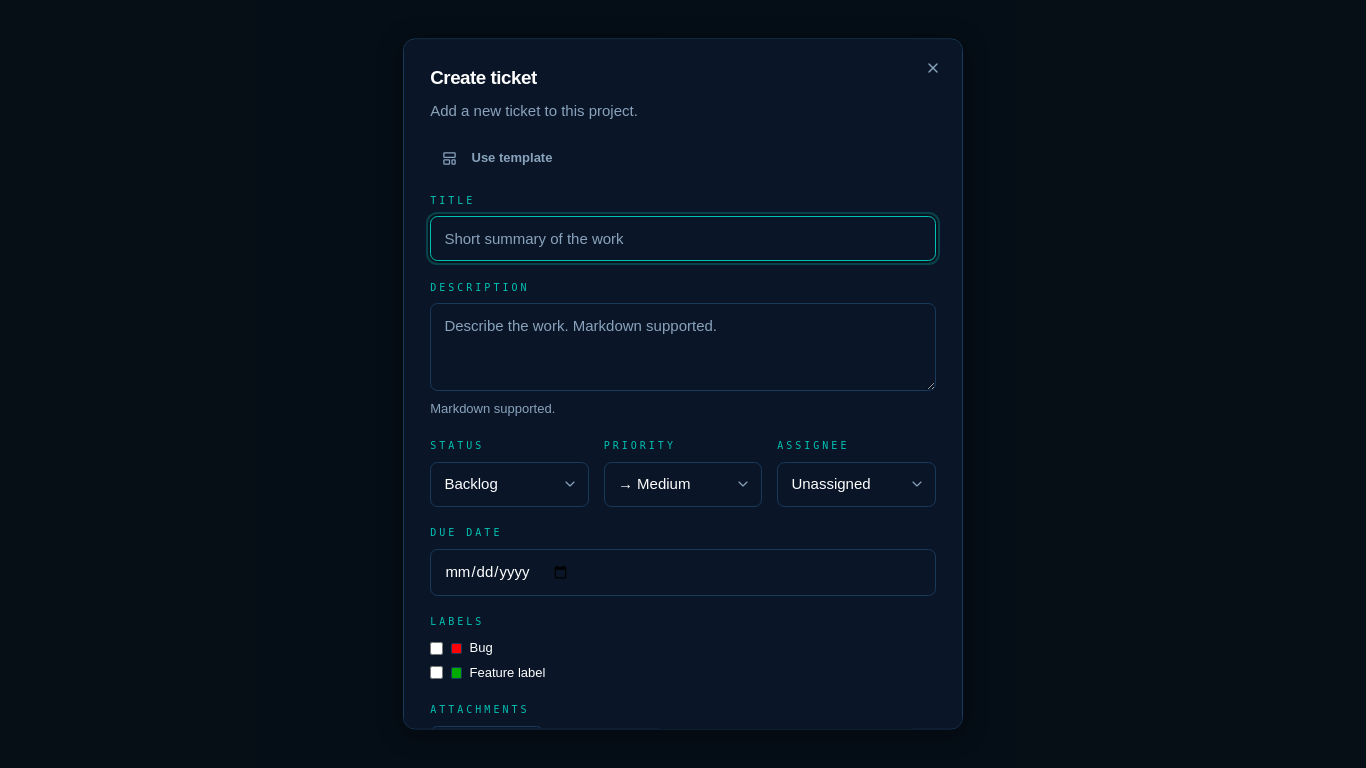
Scenario: CreateTicketDialog — templates and labels › clicking a template row pre-fills title/description/priority and replaces the button with "Clear template"
Click the button "Use template".
click(497, 158)  # box x1=430 y1=142 x2=564 y2=174
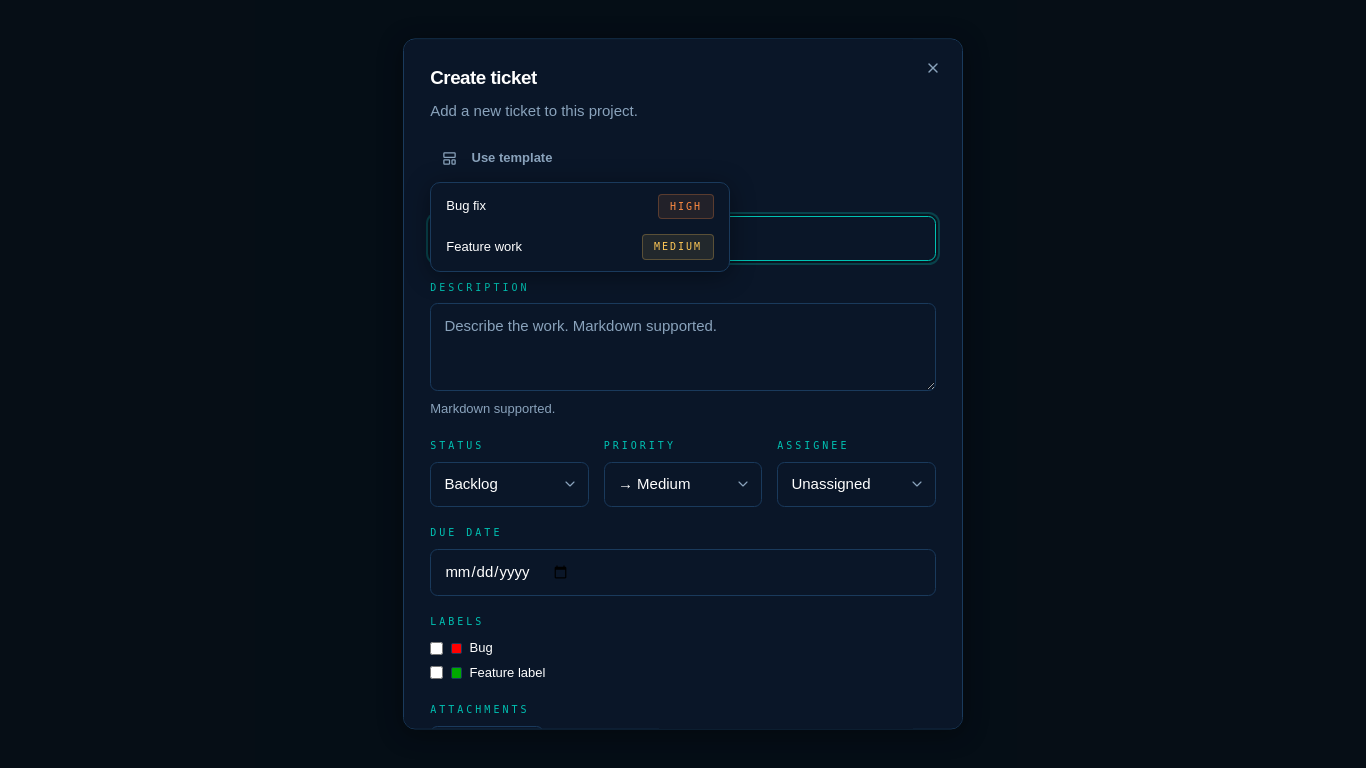
Click the text "Bug fix".
click(466, 207)  # box x1=446 y1=197 x2=486 y2=218
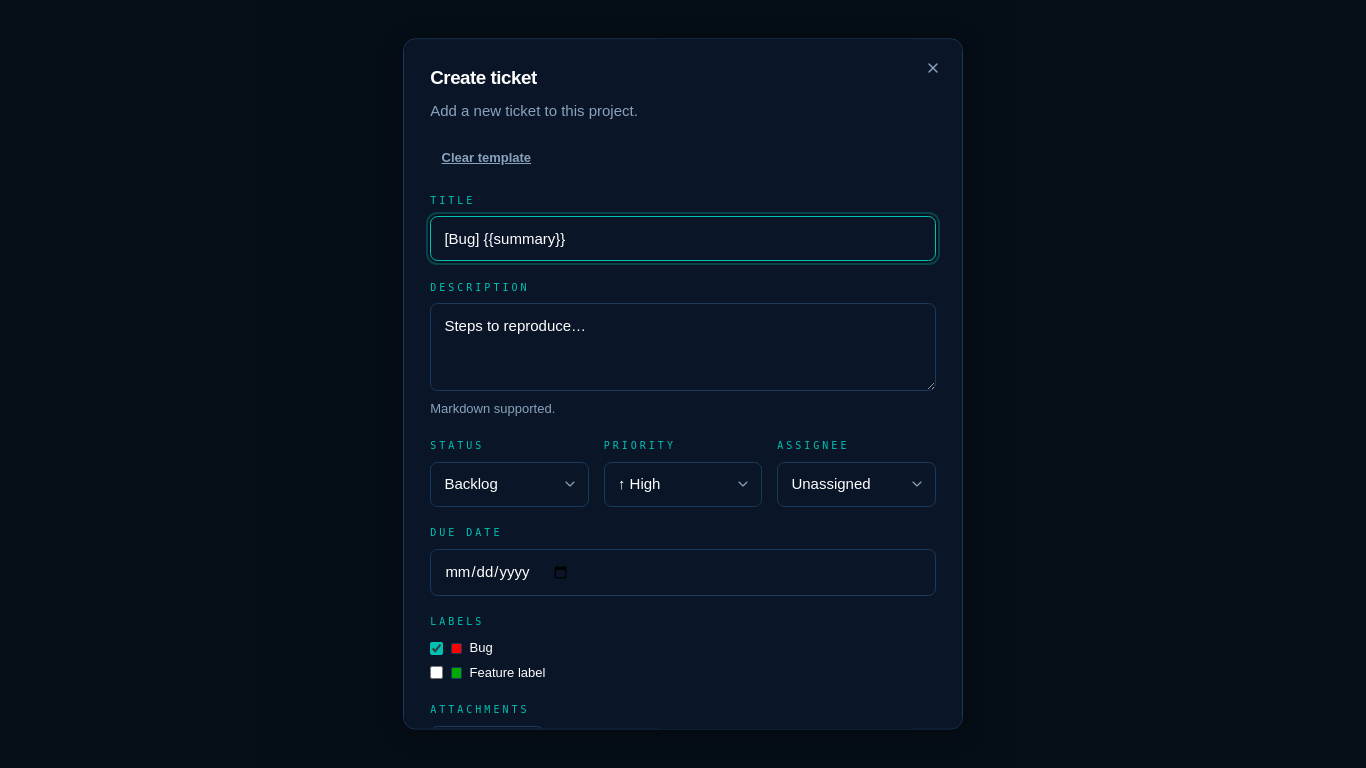
expect the field labelled "Title" holds "[Bug] {{summary}}": met, box x1=430 y1=217 x2=936 y2=262
expect the text box labelled "Description" holds "Steps to reproduce…": met, box x1=430 y1=304 x2=936 y2=392
expect the dropdown labelled "Priority" shows "↑ High": met, box x1=604 y1=462 x2=762 y2=507
